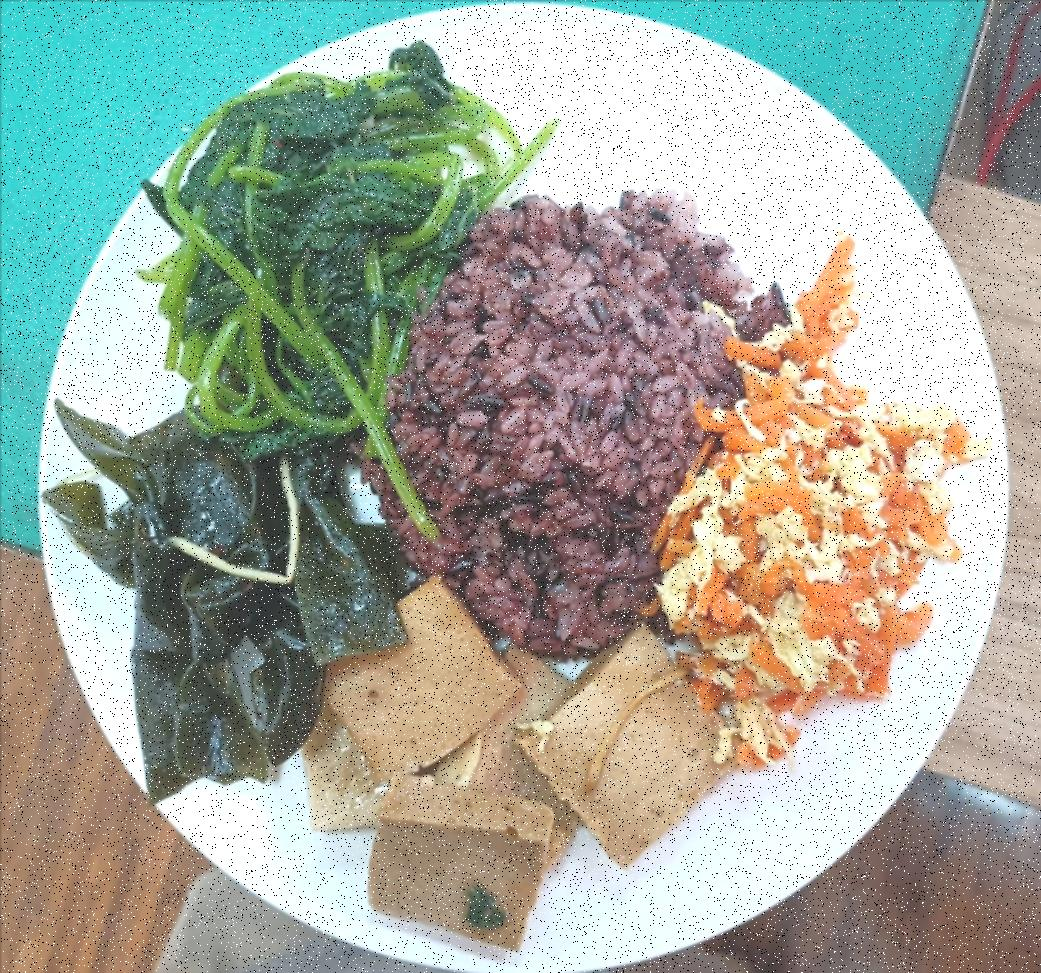plate: (38, 0, 1014, 971)
purple rice: (400, 180, 752, 654)
side dish: (662, 236, 970, 766), (315, 580, 744, 946), (42, 390, 402, 803), (141, 40, 478, 440)
